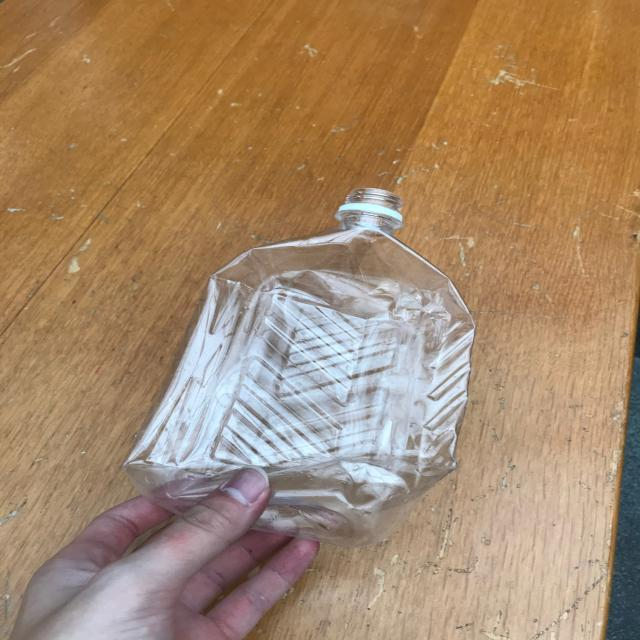plastic_bottle: (123, 188, 477, 547)
